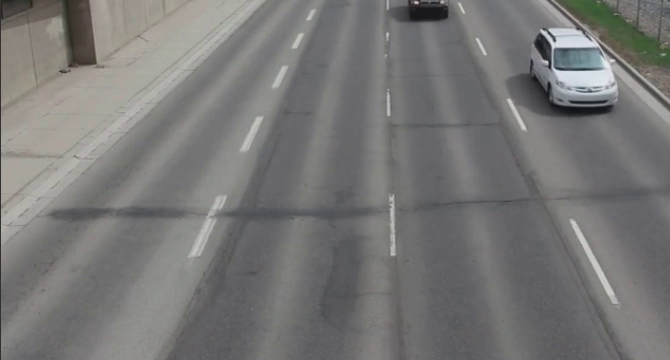car: (527, 23, 627, 115), (407, 1, 452, 22)
